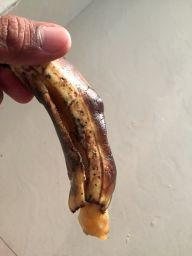banana: (3, 55, 119, 243)
